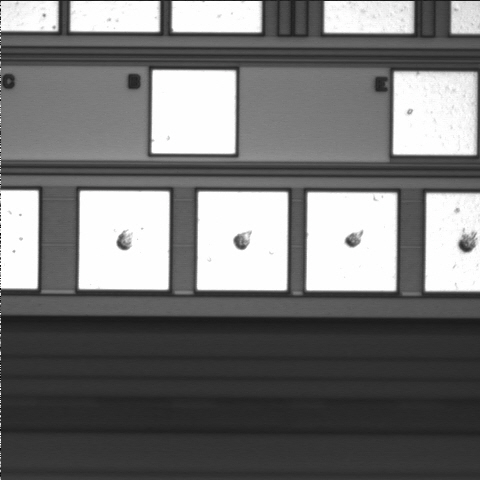pad: (306, 192, 397, 291), (197, 192, 288, 290), (79, 191, 169, 290), (152, 70, 236, 154), (393, 72, 476, 155)
